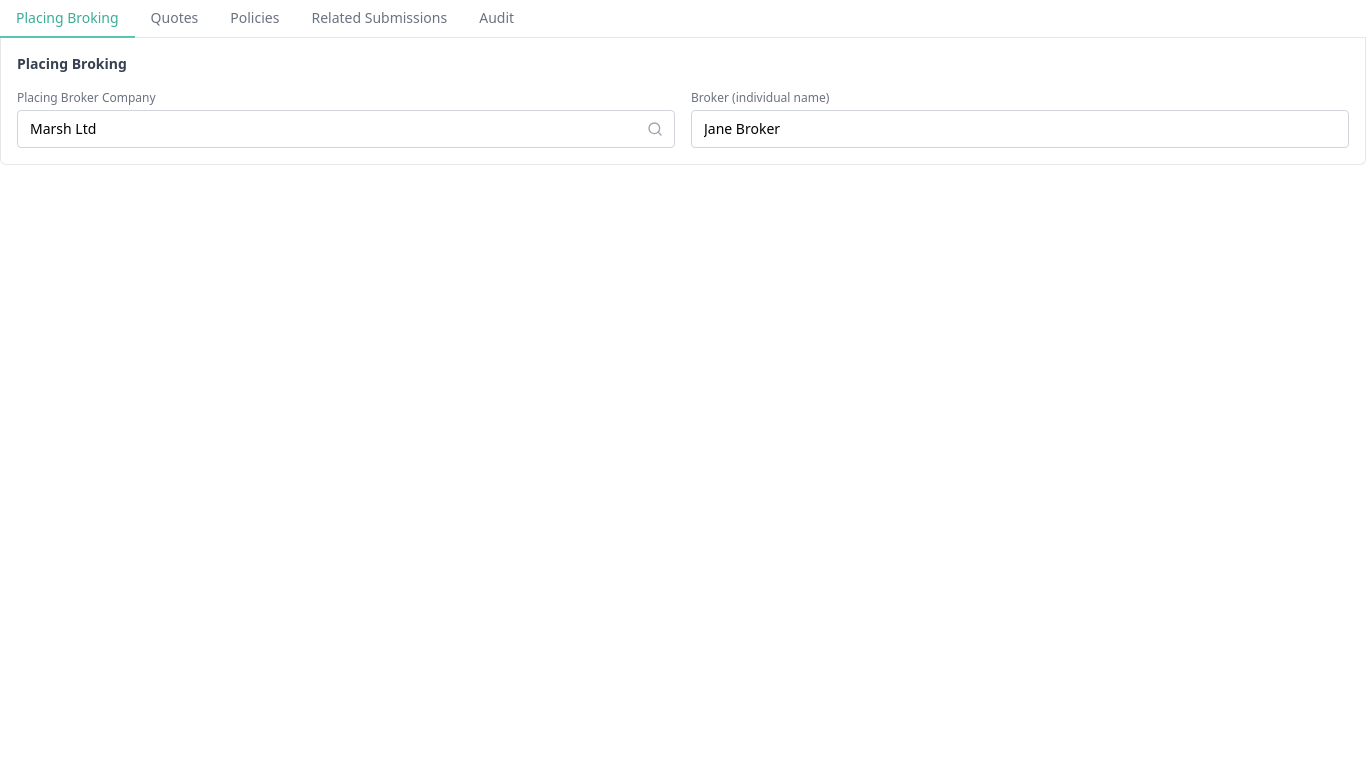
Scenario: R06 - Placing Broking pane › T-TABS-R06e: selecting a broker updates the company field and closes the modal
What coordinates should you click on to do the following:
click the button named "Search parties"
I would click on:
 (661, 129)
Its box is [647,110,675,148].
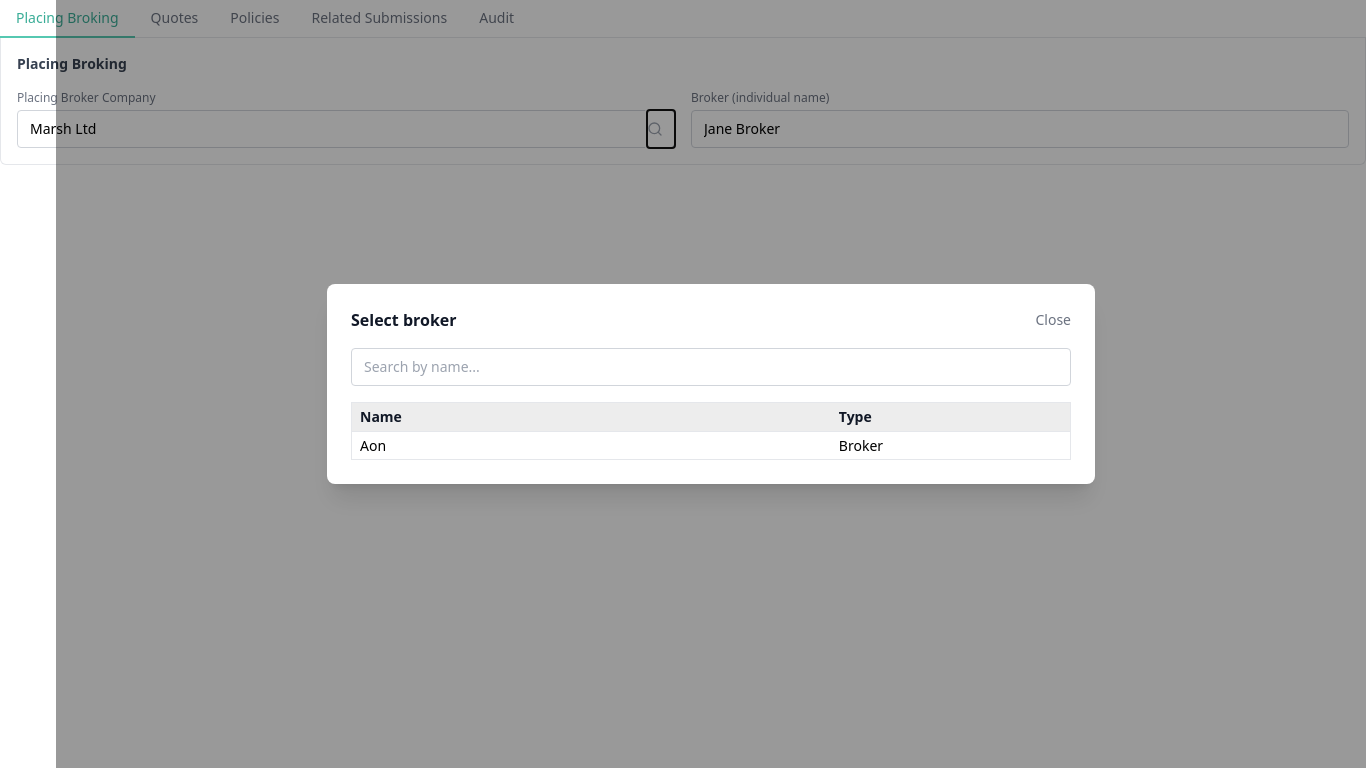
Expected: the text "Aon" is shown
What coordinates should you click on to do the following:
click the text "Aon"
I would click on:
 (591, 445)
Its box is [352,431,831,459].
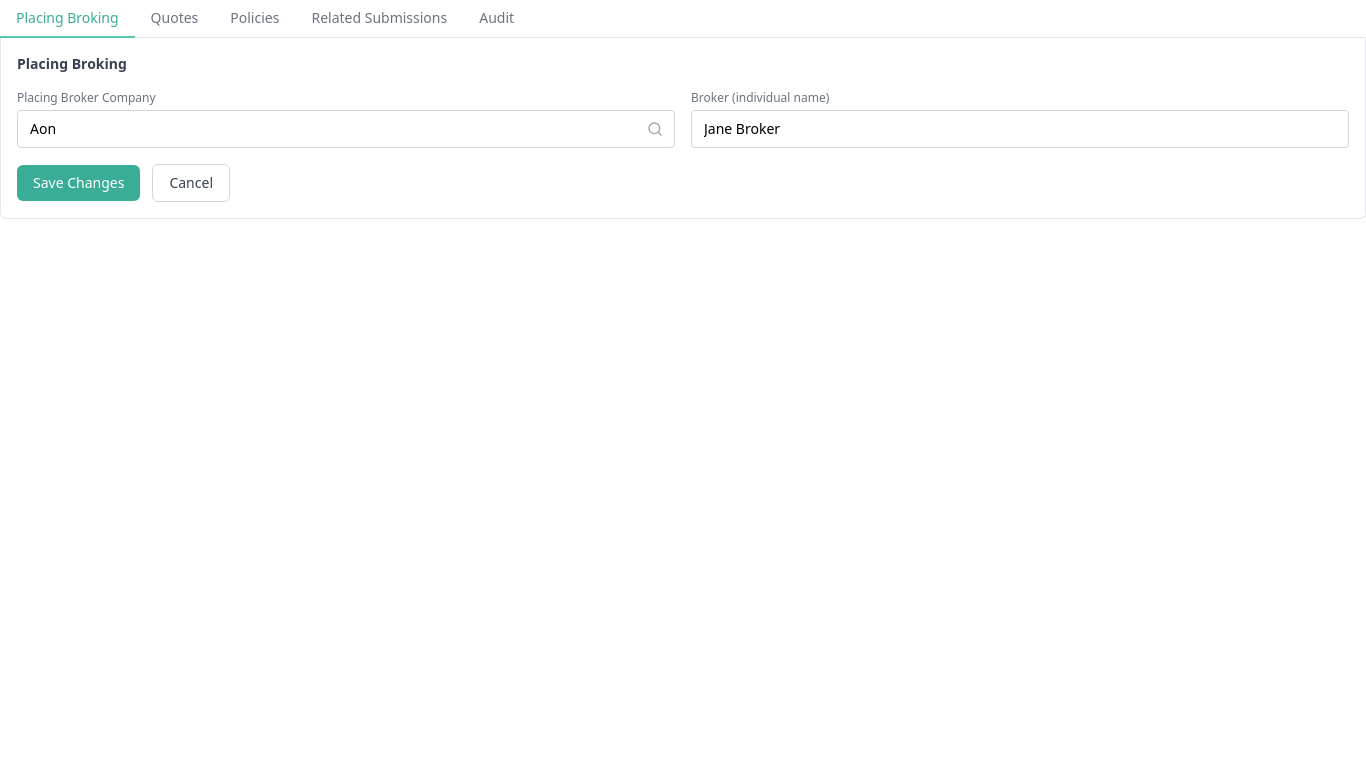
Expected: the field labelled "Placing Broker Company" holds "Aon", [17,110,675,148]
Expected: the heading "Select broker" is gone
